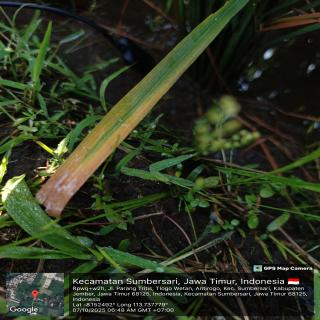Hawar-Daun: (39, 78, 176, 215)
